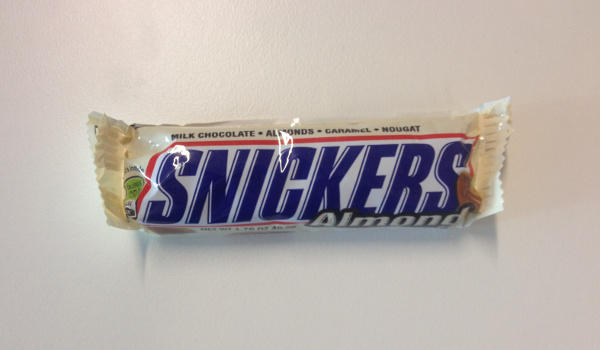snickers: (142, 141, 473, 224)
